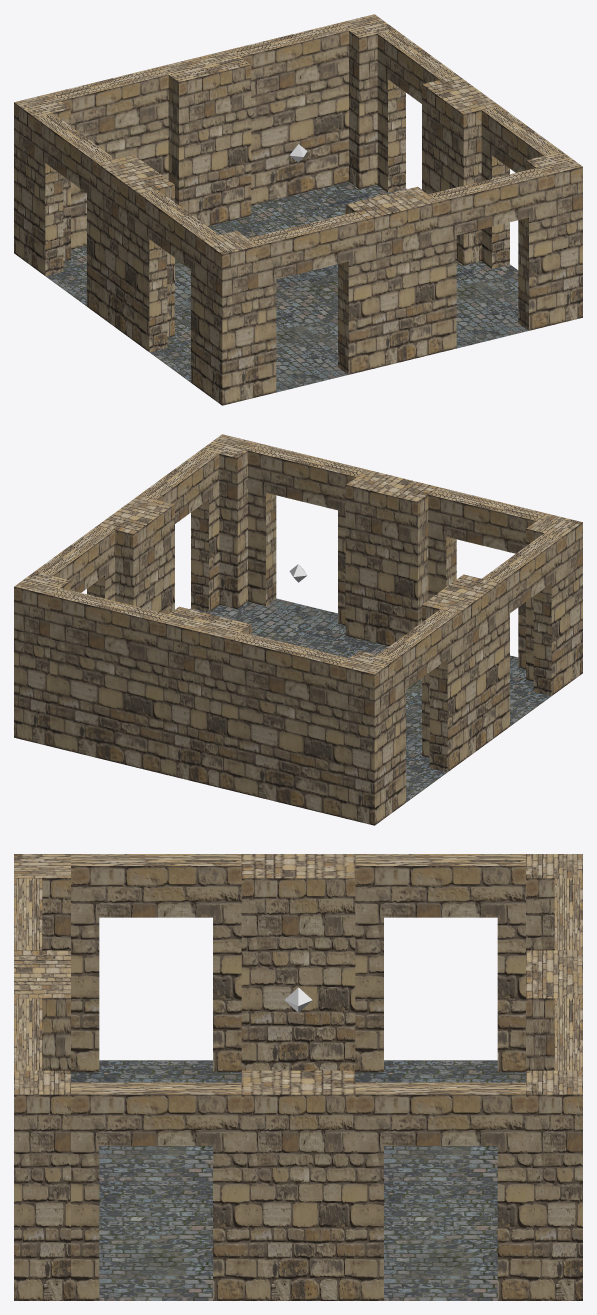
File: 1_6doorDouble.fbx
3 renders of one model, top to bottom at view 1: azimuth 30°, elevation 25°; view 2: azimuth 150°, elevation 25°; view 3: azimuth 270°, elevation 25°, orthographic. The views are drawn at different scales.
Visible parts, largest first — view 1: Cube_4, Plane; view 2: Cube_4, Plane; view 3: Cube_4, Plane.
Part boxes in pixels (left/top/right/bottom): Cube_4: left=14, top=14, right=582, bottom=405; Plane: left=45, top=181, right=528, bottom=392; Cube_4: left=14, top=434, right=582, bottom=825; Plane: left=190, top=598, right=551, bottom=802; Cube_4: left=14, top=854, right=582, bottom=1300; Plane: left=71, top=1060, right=525, bottom=1300.
Size of the model in its own units: 20 by 8 by 20.
Materials: 3 (3 with a texture image).
